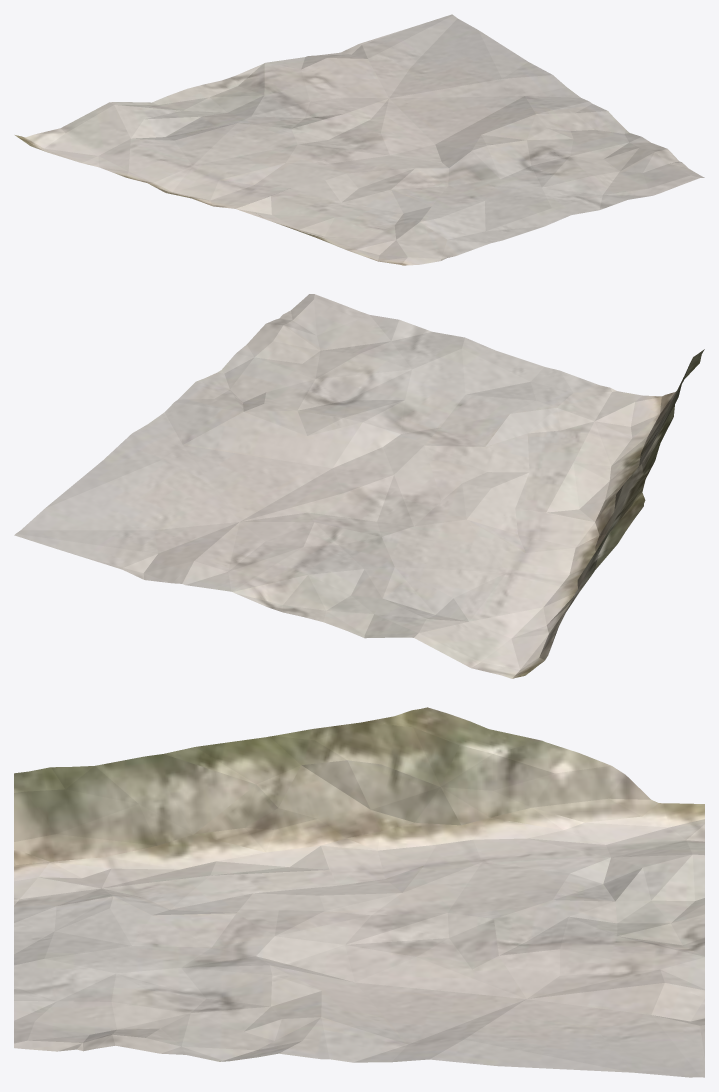
3 views of the same model, one above another, from view 1: azimuth 30°, elevation 25°; view 2: azimuth 150°, elevation 25°; view 3: azimuth 270°, elevation 25° (orthographic). The views are drawn at different scales.
Size of the model in its own units: 2.95 by 0.5111 by 2.95.
2 materials, 2 textured.
